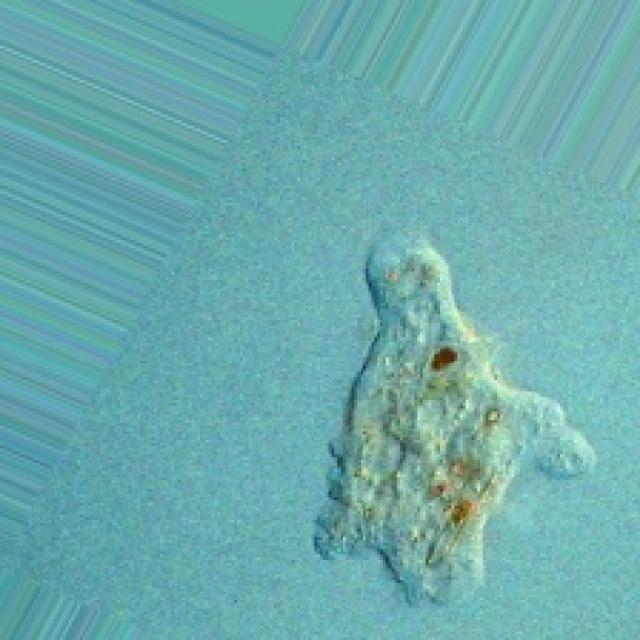Amoeba: (309, 223, 597, 608)
